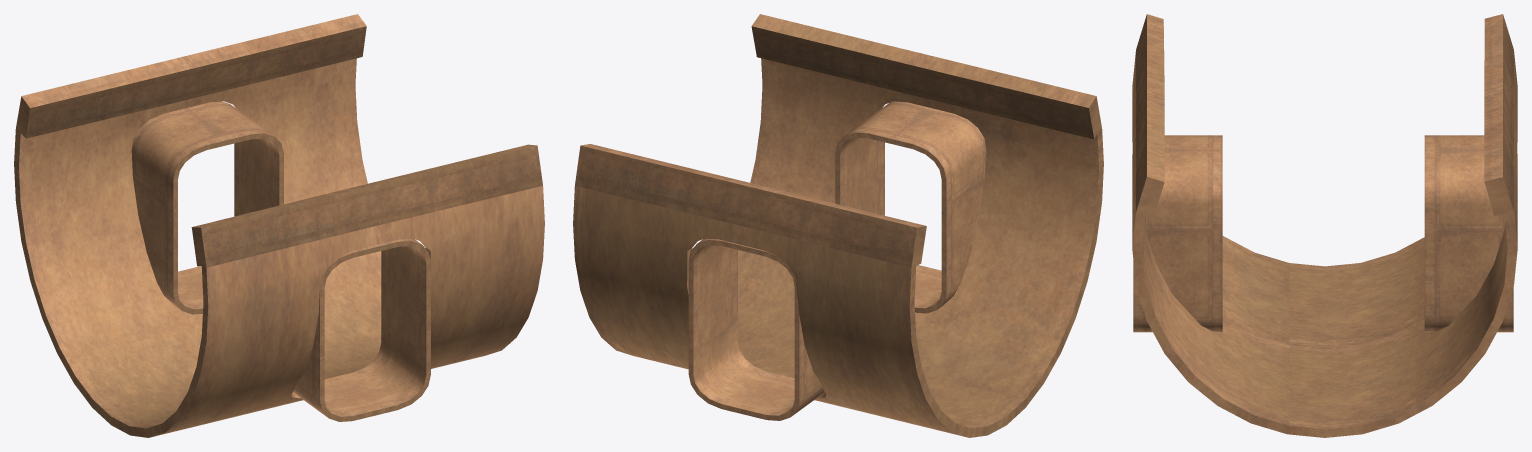
File: Small_Wall_Door_B.fbx
The picture shows the model from 3 angles, left to right: view 1: azimuth 30°, elevation 25°; view 2: azimuth 150°, elevation 25°; view 3: azimuth 270°, elevation 25°; orthographic projection.
Parts seen in each view (by area): view 1: Small_Wall_Door_B; view 2: Small_Wall_Door_B; view 3: Small_Wall_Door_B.
Boxes of the visible parts, left/top/right/bottom form: Small_Wall_Door_B: left=14, top=14, right=544, bottom=437; Small_Wall_Door_B: left=573, top=14, right=1103, bottom=437; Small_Wall_Door_B: left=1132, top=14, right=1517, bottom=437.
Bounding box in the file's own units: 4.01 × 2.99 × 4.
